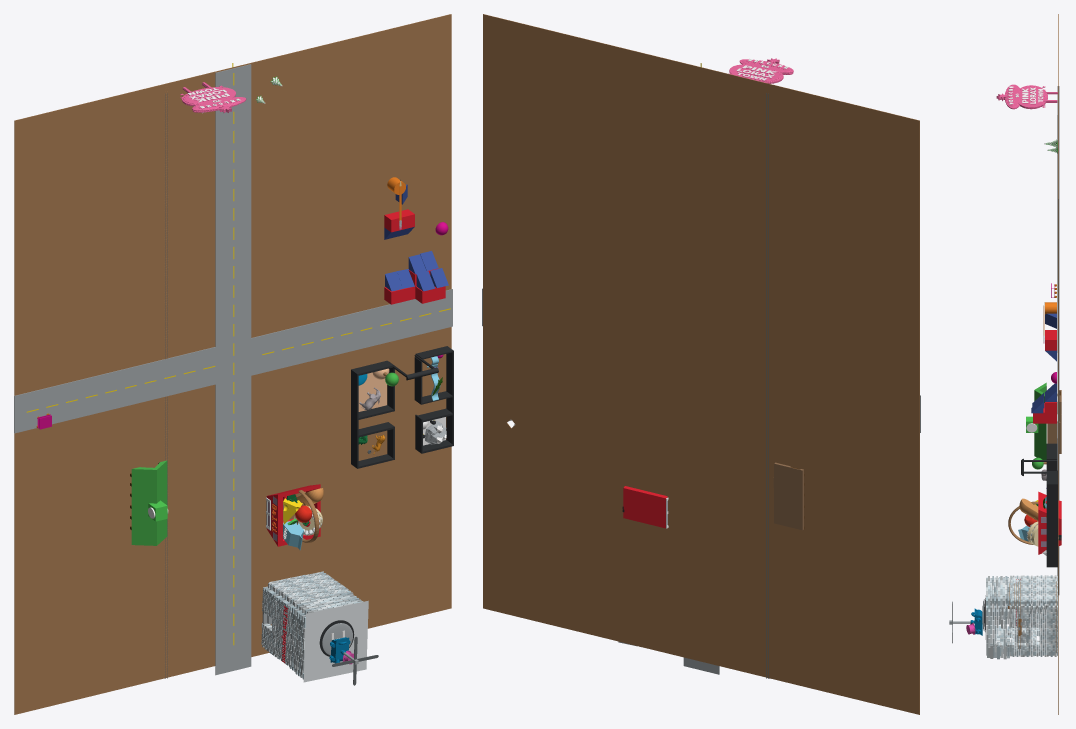
Rendered from tinker.obj.
3 renders of one model, left to right at view 1: azimuth 30°, elevation 25°; view 2: azimuth 150°, elevation 25°; view 3: azimuth 270°, elevation 25°, orthographic. The views are drawn at different scales.
Parts seen in each view (by area): view 1: group_0_11107152, group_0_10988977, group_0_2829873, group_0_14541540, group_0_4634441, group_0_15277357, group_0_3888547, group_0_16768282, group_0_6383466, group_0_16345508, group_0_16500122, group_0_8768998; view 2: group_0_11107152, group_0_9859666, group_0_15277357, group_0_6383466, group_0_16345508; view 3: group_0_2829873, group_0_15277357, group_0_11107152, group_0_6383466, group_0_16345508, group_0_4634441, group_0_3888547, group_0_10988977, group_0_9859666, group_0_11847116, group_0_11650252, group_0_13883867 (+32 smaller).
Part boxes in pixels (x1,y1,x2,y2): group_0_11107152: (14, 14, 451, 714); group_0_10988977: (14, 64, 452, 675); group_0_2829873: (319, 180, 453, 656); group_0_14541540: (295, 508, 368, 682); group_0_4634441: (131, 76, 398, 545); group_0_15277357: (266, 209, 445, 663); group_0_3888547: (384, 184, 448, 291); group_0_16768282: (26, 63, 450, 645); group_0_6383466: (165, 93, 378, 685); group_0_16345508: (180, 82, 246, 112); group_0_16500122: (358, 368, 389, 411); group_0_8768998: (283, 356, 440, 550); group_0_11107152: (483, 14, 919, 714); group_0_9859666: (773, 462, 803, 530); group_0_15277357: (623, 486, 667, 528); group_0_6383466: (766, 93, 769, 678); group_0_16345508: (728, 58, 793, 83); group_0_2829873: (984, 443, 1061, 631); group_0_15277357: (1016, 330, 1061, 625); group_0_11107152: (1008, 14, 1058, 714); group_0_6383466: (952, 86, 1059, 643); group_0_16345508: (996, 84, 1057, 109); group_0_4634441: (1032, 139, 1057, 469); group_0_3888547: (1031, 313, 1056, 413); group_0_10988977: (949, 99, 1057, 630); group_0_9859666: (1047, 390, 1061, 453); group_0_11847116: (992, 575, 1052, 659); group_0_11650252: (994, 577, 1054, 656); group_0_13883867: (996, 575, 1056, 659).
Bounding box in the file's own units: 737 × 976 × 188.
